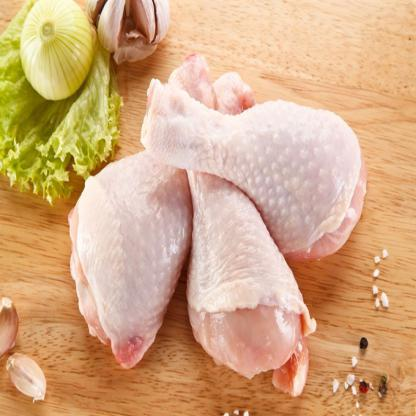chicken: (168, 52, 318, 383), (72, 66, 239, 360), (136, 66, 380, 241)
